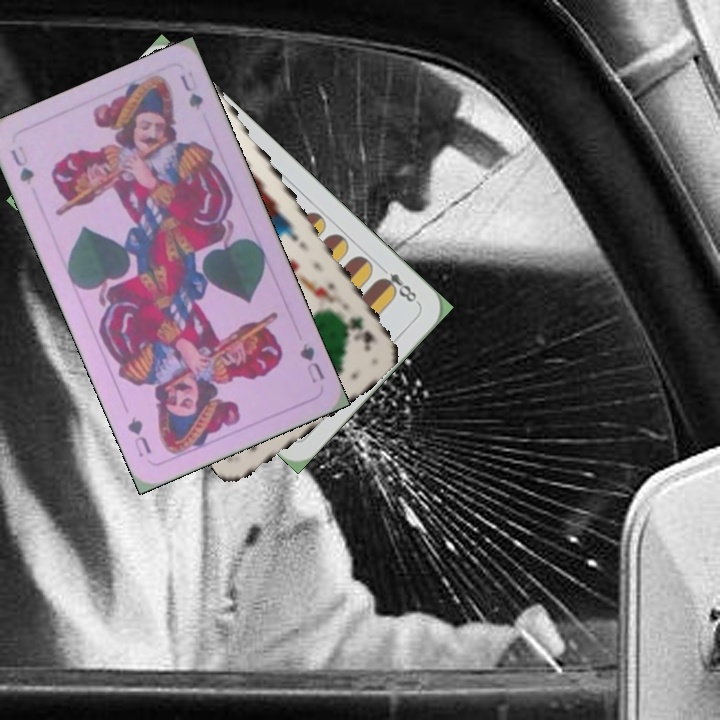E8: (374, 261, 420, 307)
GK: (345, 312, 378, 353)
GU: (295, 339, 328, 386), (6, 141, 37, 188)
